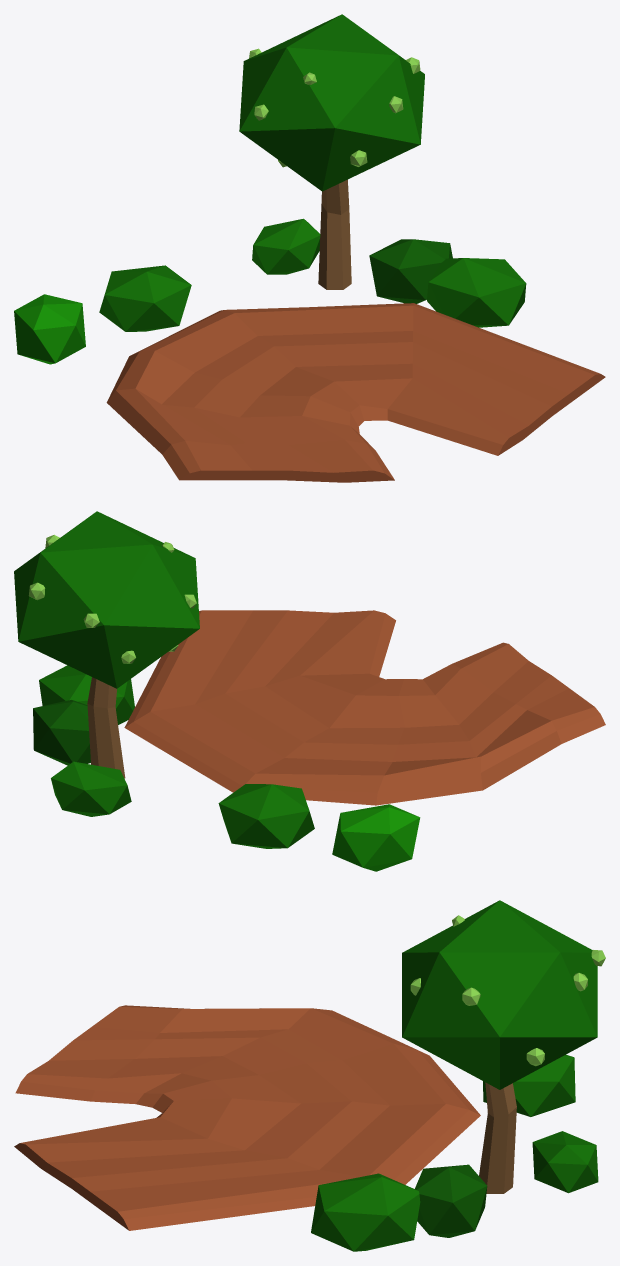
The model's file is street3_01_2.fbx.
The picture shows the model from 3 angles, top to bottom: view 1: azimuth 30°, elevation 25°; view 2: azimuth 150°, elevation 25°; view 3: azimuth 270°, elevation 25°; orthographic projection. The views are drawn at different scales.
Parts seen in each view (by area): view 1: redRoad01.003, apples, bush.011, bush.014, bush.012, bush.013, bush.015; view 2: redRoad01.003, apples, bush.014, bush.012, bush.015, bush.013, bush.011; view 3: redRoad01.003, apples, bush.011, bush.013, bush.015, bush.014.
Part boxes in pixels (x1=…): redRoad01.003: x1=106, y1=303, x2=605, y2=482; apples: x1=239, y1=14, x2=424, y2=289; bush.011: x1=427, y1=258, x2=526, y2=327; bush.014: x1=99, y1=265, x2=191, y2=331; bush.012: x1=14, y1=294, x2=85, y2=364; bush.013: x1=369, y1=239, x2=452, y2=303; bush.015: x1=252, y1=218, x2=320, y2=274; redRoad01.003: x1=124, y1=610, x2=605, y2=805; apples: x1=14, y1=511, x2=199, y2=778; bush.014: x1=218, y1=784, x2=314, y2=848; bush.012: x1=332, y1=804, x2=420, y2=871; bush.015: x1=51, y1=761, x2=131, y2=816; bush.013: x1=33, y1=700, x2=90, y2=765; bush.011: x1=39, y1=665, x2=134, y2=724; redRoad01.003: x1=14, y1=1005, x2=480, y2=1230; apples: x1=402, y1=900, x2=605, y2=1193; bush.011: x1=311, y1=1173, x2=420, y2=1251; bush.013: x1=415, y1=1164, x2=487, y2=1237; bush.015: x1=532, y1=1131, x2=598, y2=1193; bush.014: x1=483, y1=1054, x2=575, y2=1116.
Bounding box in the file's own units: 84.28 × 47.59 × 89.87.
